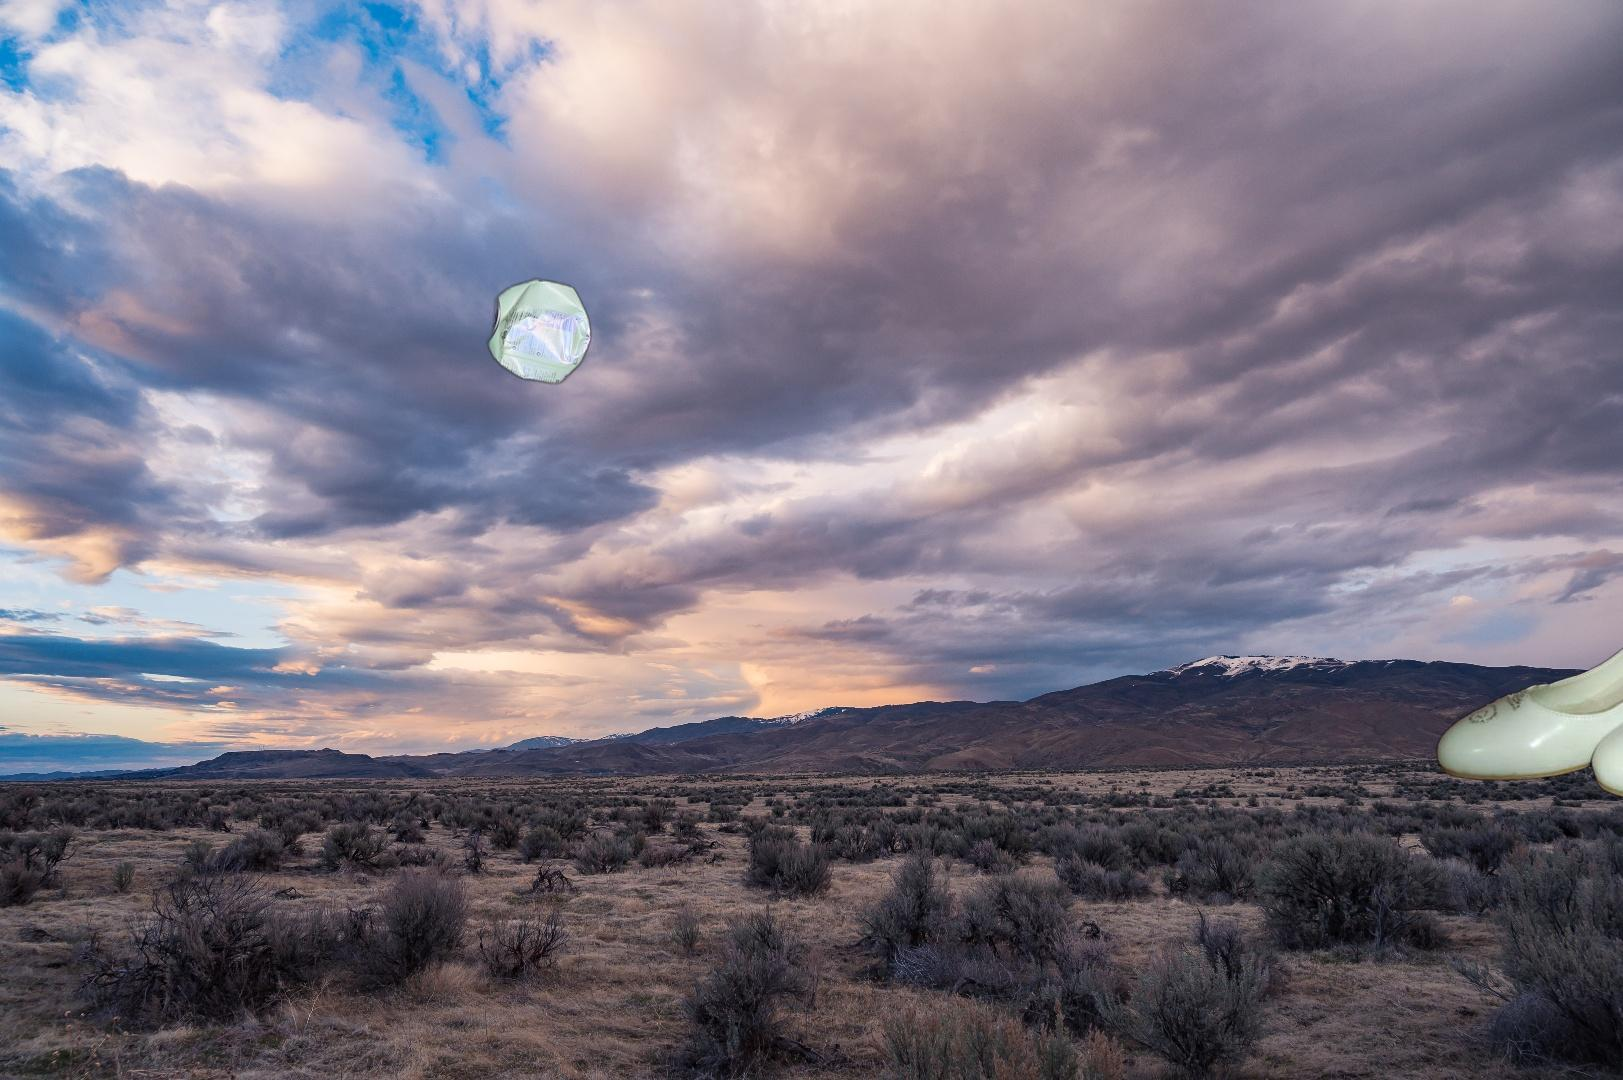metal-cans: (483, 272, 596, 391)
shoes: (1431, 554, 1623, 806)
